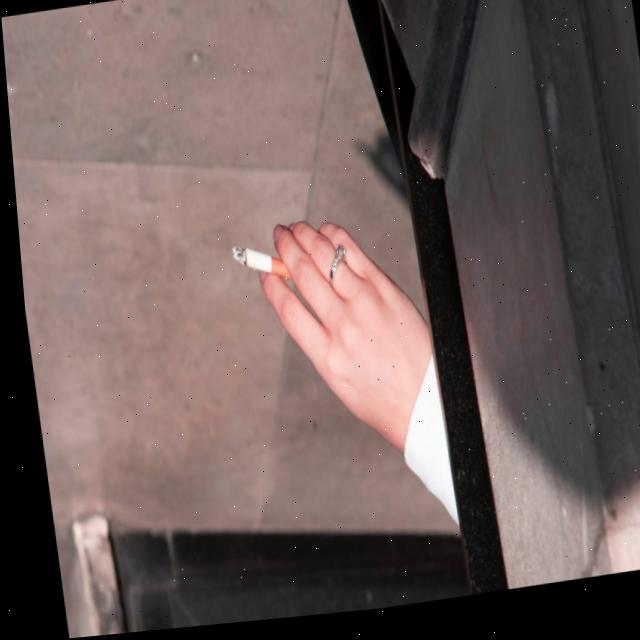cigarette: (230, 245, 290, 279)
